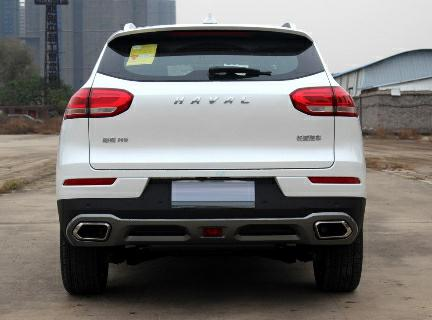哈弗-H6: (49, 17, 371, 302)
